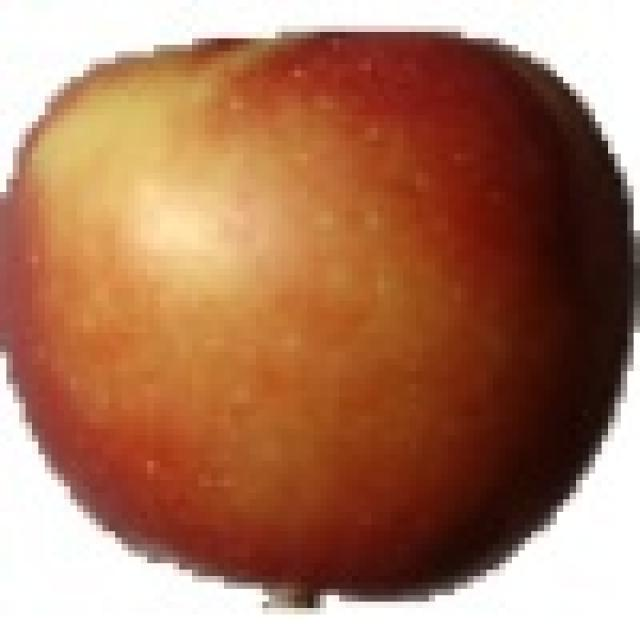apple: (2, 30, 639, 614)
